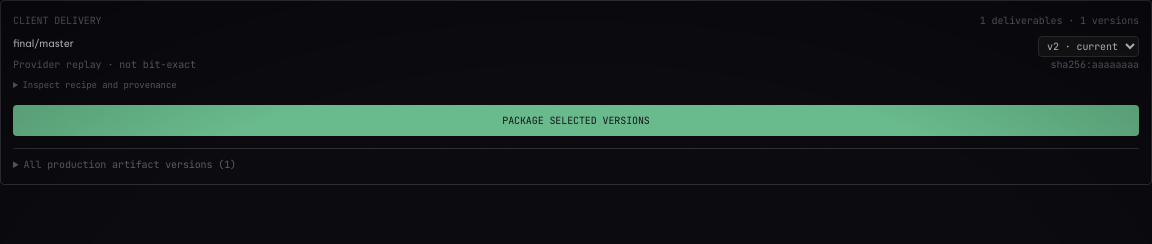
Test: DeliverablesPanel › shows immutable version evidence and packages plus downloads in one click
expect the text "final/master" is shown: met, box [13,36,74,57]
expect the text "Provider replay · not bit-exact" is shown: met, box [13,57,196,73]
Click the button "Package selected versions". click: (576, 120)
box: [13,105,1139,136]
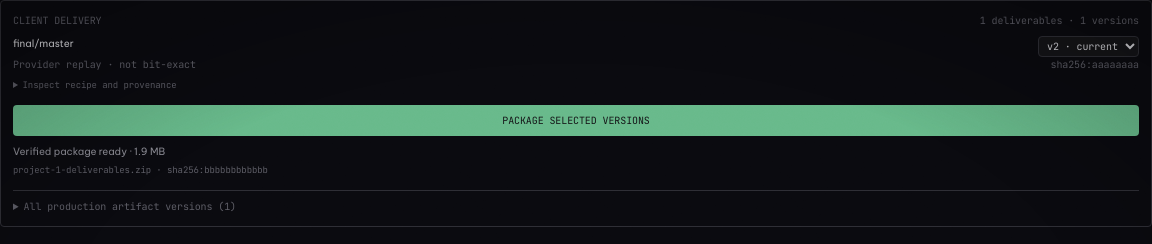
expect the message shows "Verified package ready": met, box [13,145,165,158]
expect the text "project-1-deliverables.zip" is shown: met, box [13,164,151,176]
